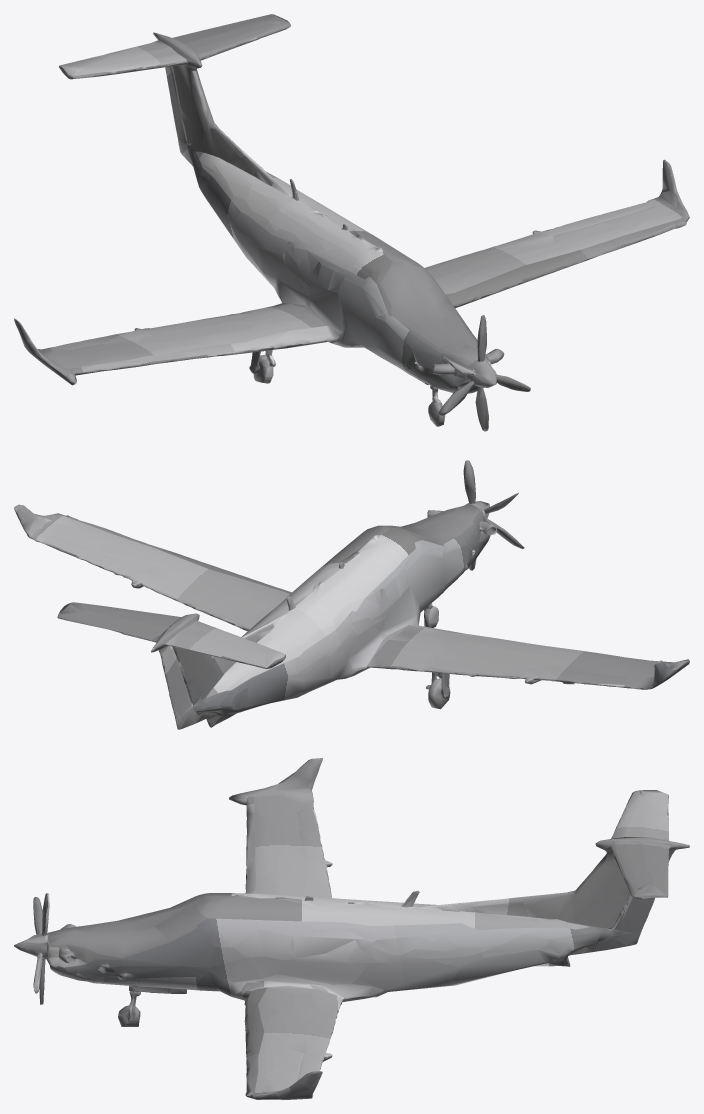
The picture shows the model from 3 angles, top to bottom: view 1: azimuth 30°, elevation 25°; view 2: azimuth 150°, elevation 25°; view 3: azimuth 270°, elevation 25°; orthographic projection.
Parts seen in each view (by area): view 1: LO; view 2: LO; view 3: LO.
Boxes of the visible parts, x1,y1,x2,y2 form: LO: [14, 14, 689, 431]; LO: [14, 460, 689, 729]; LO: [14, 758, 689, 1099].
Size of the model in its own units: 16.26 by 4.57 by 14.79.
Materials: 1 (1 with a texture image).
